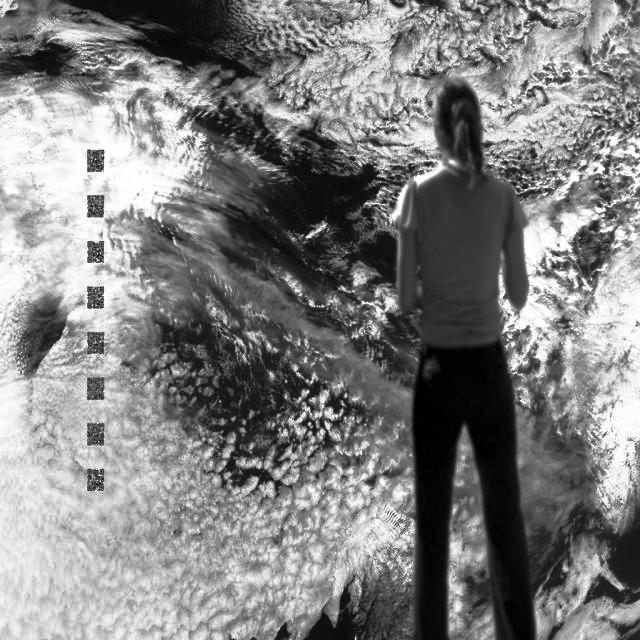qr_code: (88, 150, 104, 172), (88, 377, 104, 399), (88, 332, 104, 354), (88, 423, 104, 444), (88, 196, 104, 216), (88, 469, 103, 490), (88, 241, 103, 262), (88, 287, 103, 307)
